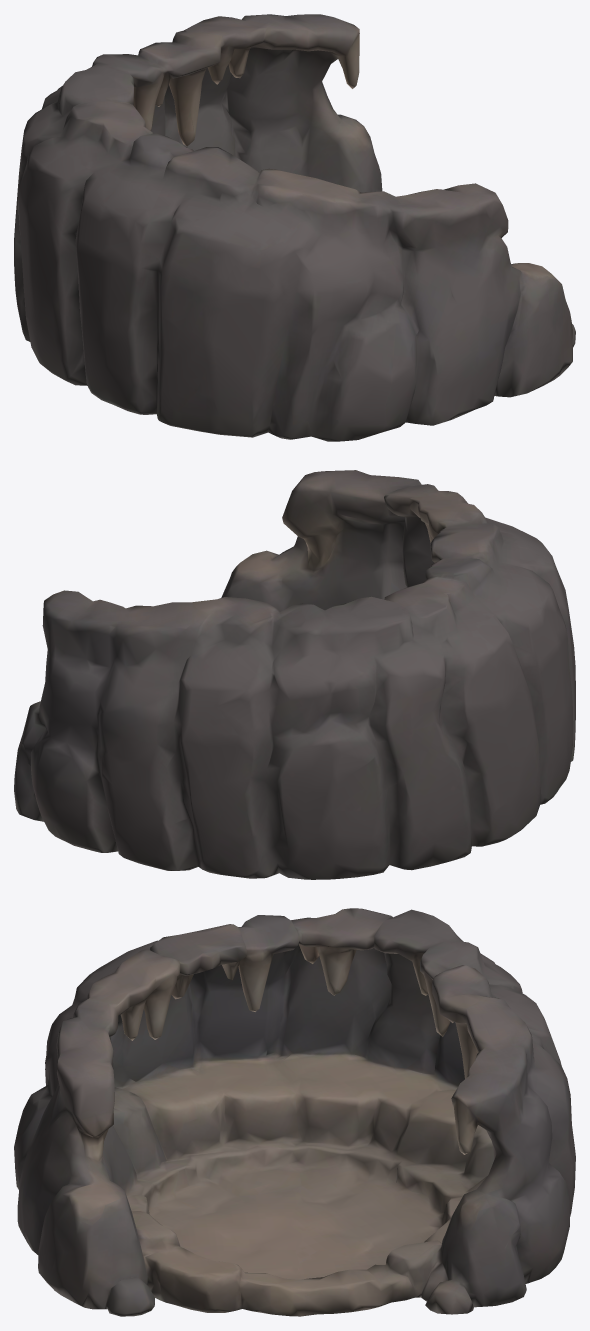
The model's file is room-cave.glb.
3 renders of one model, top to bottom at view 1: azimuth 30°, elevation 25°; view 2: azimuth 150°, elevation 25°; view 3: azimuth 270°, elevation 25°, orthographic. The views are drawn at different scales.
Visible parts, largest first — view 1: tripo_node_494d16f7-5fbd-4028-a323-38b6d95df9f9; view 2: tripo_node_494d16f7-5fbd-4028-a323-38b6d95df9f9; view 3: tripo_node_494d16f7-5fbd-4028-a323-38b6d95df9f9.
Part boxes in pixels (x1,y1,x2,y2): tripo_node_494d16f7-5fbd-4028-a323-38b6d95df9f9: (14, 14, 575, 441); tripo_node_494d16f7-5fbd-4028-a323-38b6d95df9f9: (14, 470, 575, 879); tripo_node_494d16f7-5fbd-4028-a323-38b6d95df9f9: (14, 908, 575, 1316).
Size of the model in its own units: 0.8872 by 0.455 by 1.
Materials: 1 (1 with a texture image).
